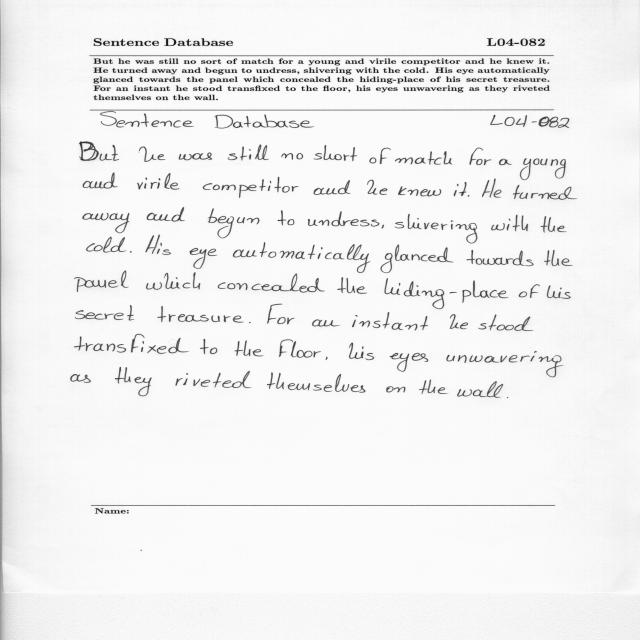word: (215, 115, 569, 129), (233, 242, 370, 273), (385, 278, 509, 309), (447, 351, 564, 377), (395, 214, 477, 244), (75, 334, 190, 354), (381, 245, 454, 273), (218, 274, 325, 293), (203, 177, 299, 198), (267, 373, 366, 393), (208, 209, 259, 239), (158, 306, 244, 323), (352, 312, 428, 331), (175, 371, 252, 388), (308, 211, 380, 227), (75, 271, 129, 292), (466, 250, 534, 266), (115, 367, 152, 396), (520, 158, 566, 180), (146, 272, 200, 290), (513, 185, 577, 200), (76, 305, 135, 321), (479, 314, 534, 331), (83, 213, 129, 233), (395, 151, 453, 165), (101, 112, 150, 128), (457, 381, 503, 398), (80, 142, 120, 161), (279, 340, 321, 358), (137, 173, 180, 190), (390, 353, 428, 372), (314, 145, 357, 161), (228, 145, 269, 161), (87, 237, 127, 253), (491, 215, 528, 231), (147, 207, 185, 222), (190, 248, 217, 269), (314, 180, 351, 195), (267, 304, 294, 324), (83, 173, 118, 188), (145, 235, 171, 255), (337, 277, 367, 294), (544, 250, 573, 266), (235, 341, 264, 357), (419, 380, 449, 395), (541, 216, 567, 233), (398, 187, 441, 197), (349, 343, 374, 360), (139, 146, 165, 162), (482, 179, 501, 198), (470, 148, 491, 165), (151, 120, 194, 128), (370, 148, 391, 164), (547, 285, 571, 299), (367, 180, 388, 195), (519, 284, 540, 298), (450, 314, 468, 329), (179, 153, 212, 161), (278, 211, 295, 226), (200, 339, 217, 354), (312, 320, 340, 327), (454, 182, 467, 196), (71, 374, 91, 383), (281, 153, 303, 160), (386, 387, 405, 393), (499, 159, 512, 165), (381, 225, 384, 229), (325, 357, 328, 360), (468, 195, 470, 197), (130, 251, 132, 253), (249, 322, 251, 323), (507, 397, 508, 398)
